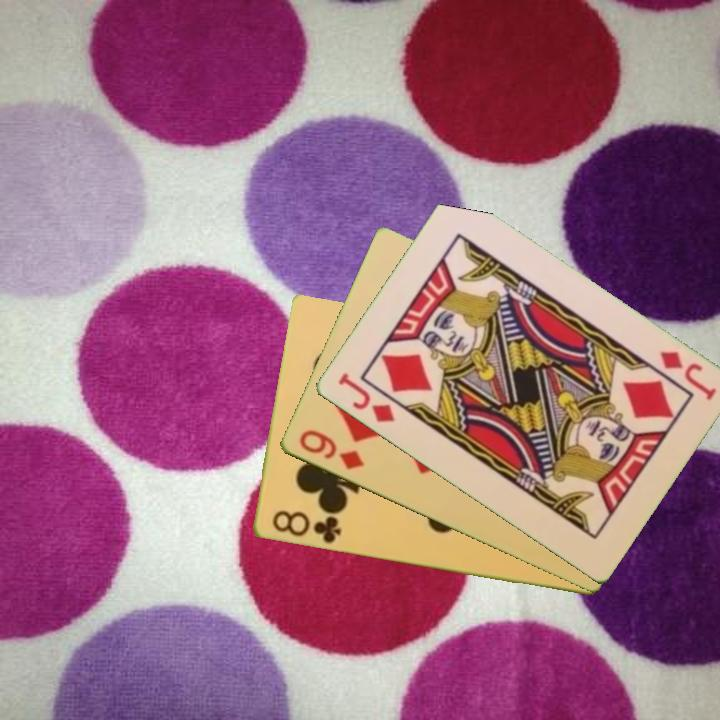8c: (268, 507, 344, 547)
9d: (295, 426, 367, 474)
Jd: (333, 369, 397, 426), (655, 347, 719, 404)
